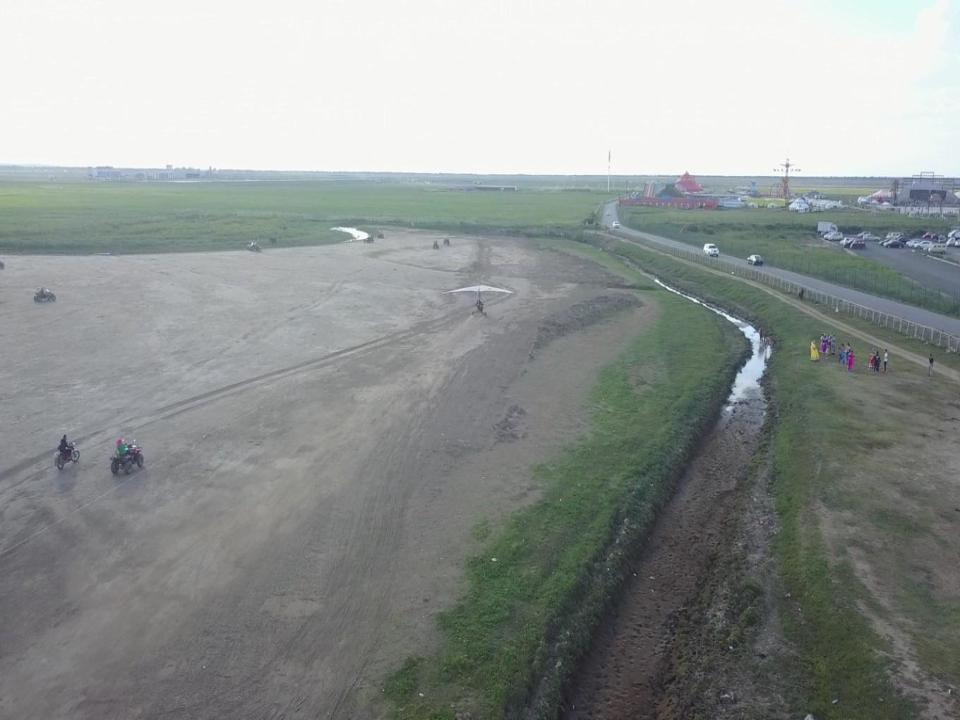car: (703, 243, 719, 258), (928, 243, 948, 254), (746, 254, 764, 266), (906, 238, 924, 248), (883, 240, 905, 248), (914, 240, 933, 249), (843, 239, 860, 249), (863, 233, 881, 241), (879, 238, 895, 246), (908, 240, 924, 248), (823, 232, 837, 240), (885, 232, 901, 239), (820, 231, 836, 237), (896, 236, 908, 243), (611, 220, 620, 229), (857, 232, 870, 238), (922, 232, 934, 238), (606, 210, 610, 216)
truck: (816, 221, 838, 234), (946, 236, 960, 247)
van: (828, 231, 843, 242), (850, 239, 866, 249), (843, 237, 857, 248), (892, 233, 909, 242), (888, 232, 904, 241), (839, 237, 854, 245), (930, 233, 942, 240)
